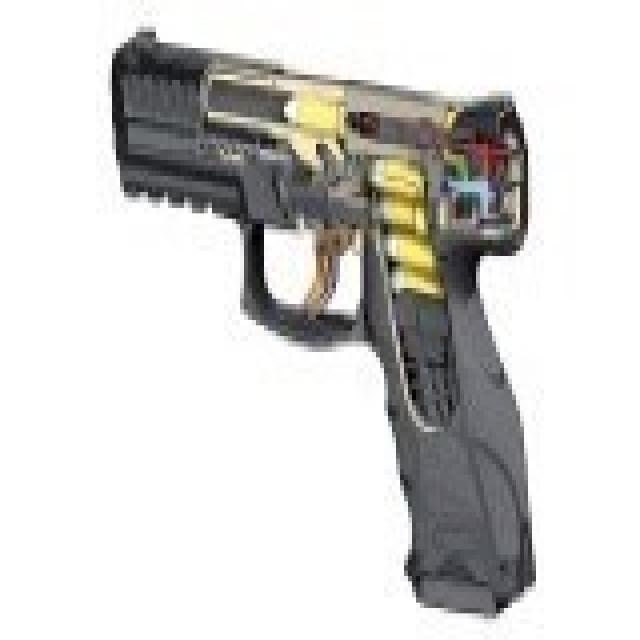Gun: (80, 18, 566, 607)
